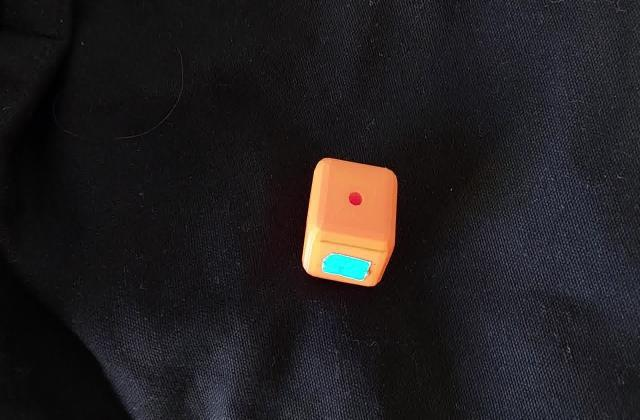blue: (339, 258, 358, 274)
cube: (296, 154, 402, 290)
